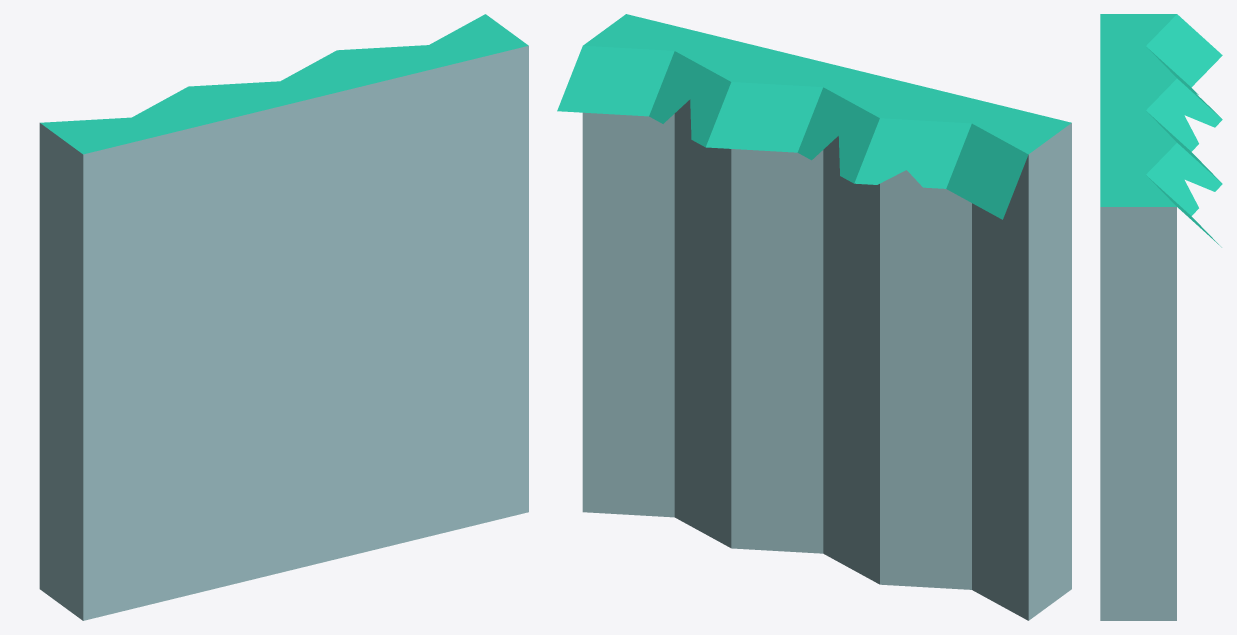
The model's file is cliff_top_stone.glb.
3 views of the same model, side by side, from view 1: azimuth 30°, elevation 25°; view 2: azimuth 150°, elevation 25°; view 3: azimuth 270°, elevation 25° (orthographic). The views are drawn at different scales.
Parts seen in each view (by area): view 1: cliff_top_stone; view 2: cliff_top_stone; view 3: cliff_top_stone.
Boxes of the visible parts, left/top/right/bottom form: cliff_top_stone: left=39, top=14, right=528, bottom=620; cliff_top_stone: left=557, top=14, right=1071, bottom=620; cliff_top_stone: left=1100, top=14, right=1222, bottom=620.
Size of the model in its own units: 1 by 1 by 0.2685.
